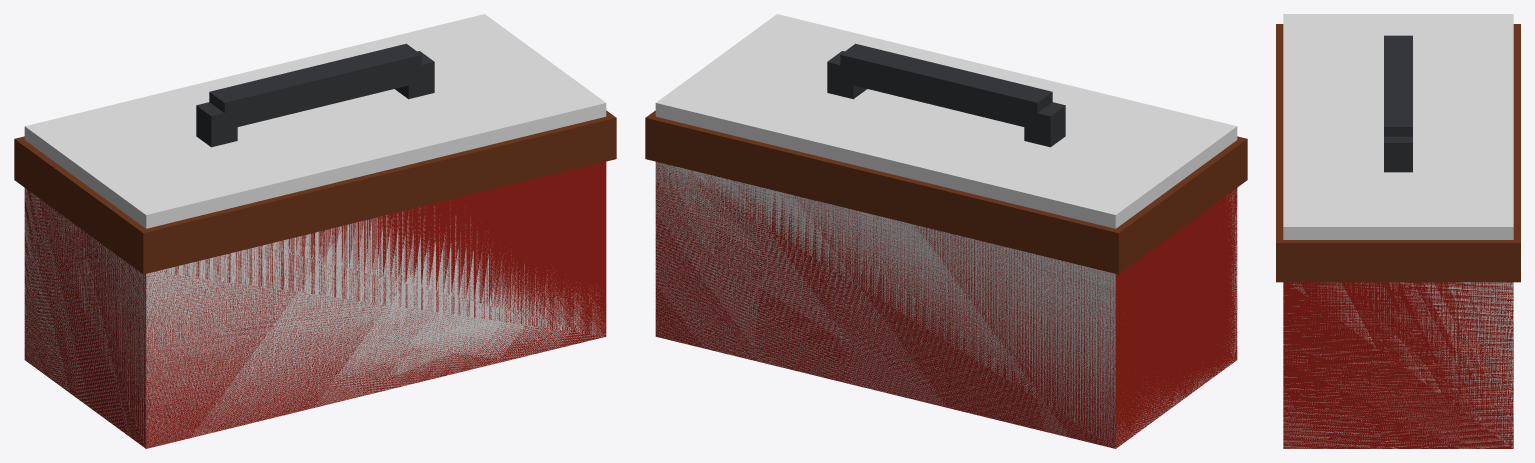
The model's file is ToolBox.fbx.
3 views of the same model, side by side, from view 1: azimuth 30°, elevation 25°; view 2: azimuth 150°, elevation 25°; view 3: azimuth 270°, elevation 25° (orthographic). The views are drawn at different scales.
Visible parts, largest first — view 1: ToolBox, COL_ToolBox_0; view 2: ToolBox, COL_ToolBox_0; view 3: COL_ToolBox_0, ToolBox.
Boxes of the visible parts, x1,y1,x2,y2 form: ToolBox: (14,43,616,448); COL_ToolBox_0: (24,14,606,448); ToolBox: (645,43,1247,448); COL_ToolBox_0: (655,14,1237,448); COL_ToolBox_0: (1283,14,1513,448); ToolBox: (1276,24,1520,448).
Bounding box in the file's own units: 0.72 × 0.4 × 0.34.
